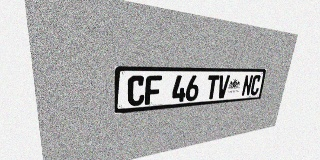4: (171, 75, 187, 103)
6: (185, 75, 200, 101)
C: (127, 76, 145, 107), (249, 75, 261, 96)
F: (145, 75, 162, 105)
N: (241, 75, 253, 96)
T: (205, 75, 220, 100)
V: (216, 75, 230, 99)
